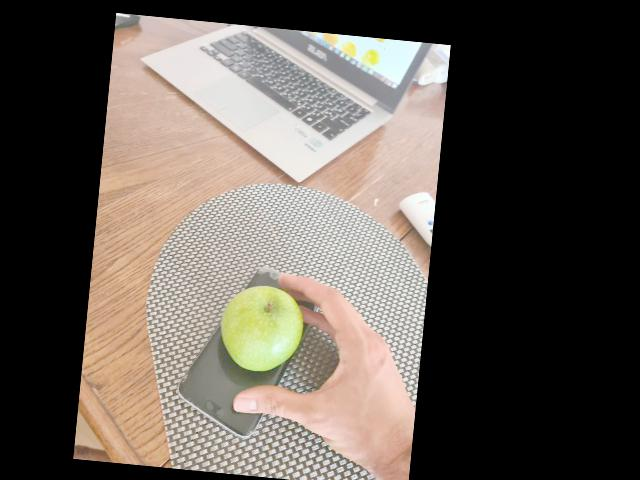apple: (216, 285, 301, 372)
